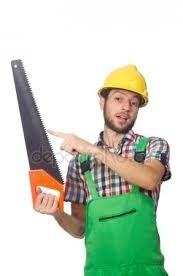helmet: (97, 62, 150, 109)
person with partial safety: (64, 63, 172, 275)
